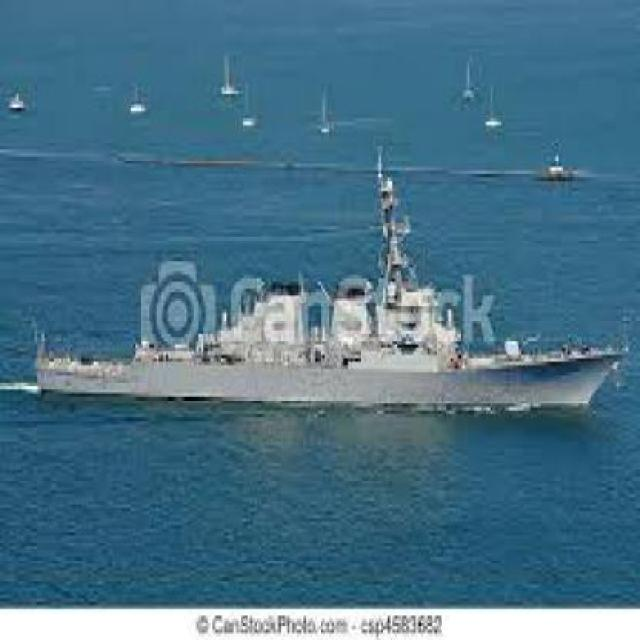warship2: (17, 141, 622, 430)
